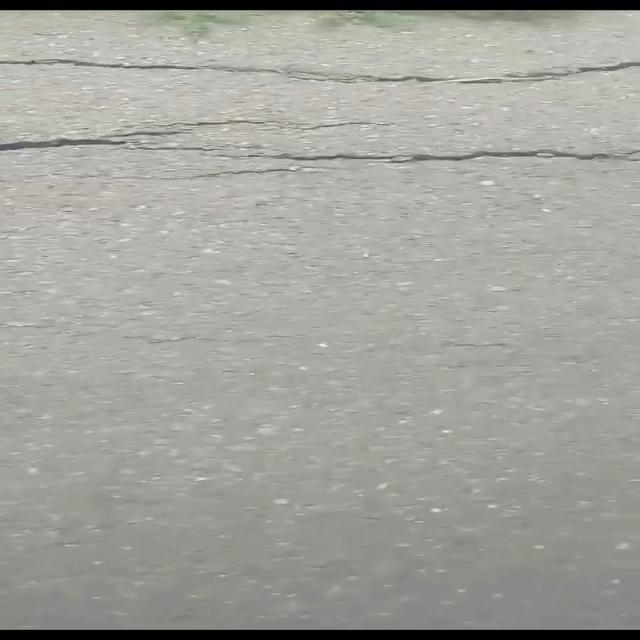Melintang: (0, 47, 640, 101), (0, 104, 341, 166), (261, 135, 640, 172)
